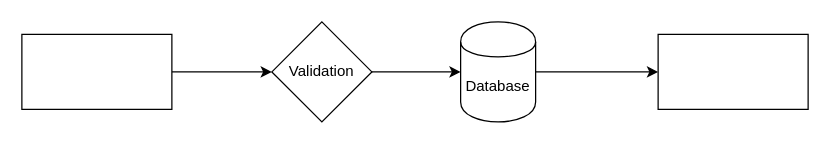
This 830x144 diagram has some shape labels left out. The shapes that lost their labels are listed below. From the top down, each one's centre as x and y in pixels, then its label:
the point at 96,71: Create Department Form
the point at 732,71: Department List
